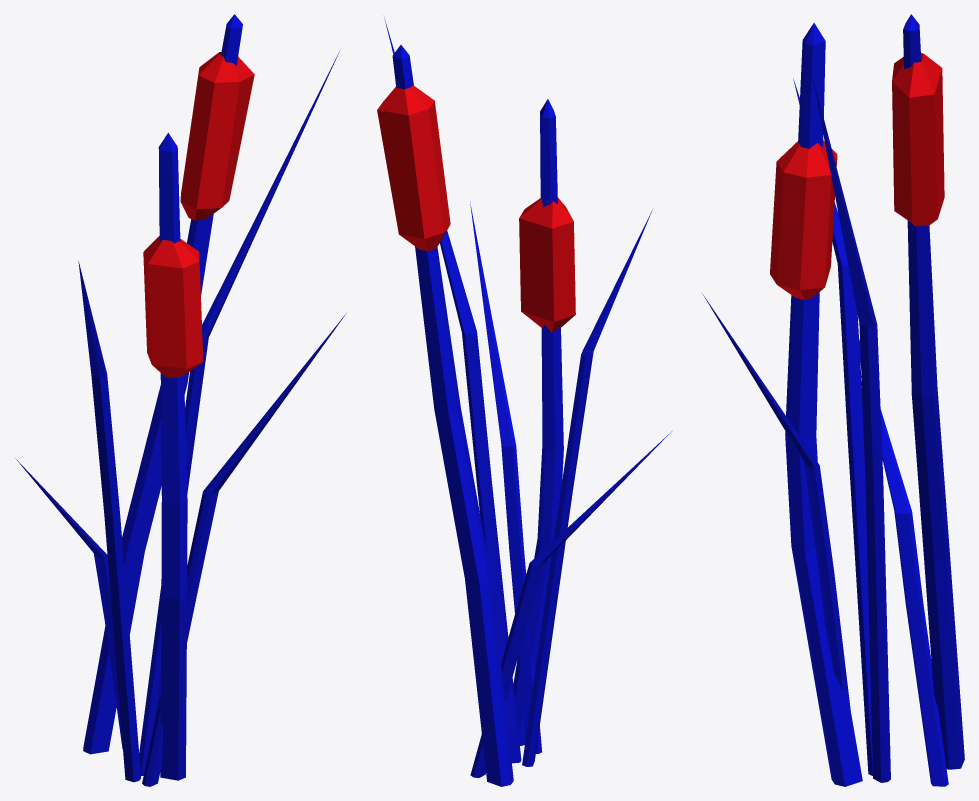
File: SM_Reed2.fbx
The picture shows the model from 3 angles, left to right: view 1: azimuth 30°, elevation 25°; view 2: azimuth 150°, elevation 25°; view 3: azimuth 270°, elevation 25°; orthographic projection. The views are drawn at different scales.
Parts seen in each view (by area): view 1: SM_Reed2; view 2: SM_Reed2; view 3: SM_Reed2.
Part boxes in pixels (bbox=[...]): SM_Reed2: bbox=[15, 14, 346, 786]; SM_Reed2: bbox=[377, 18, 671, 786]; SM_Reed2: bbox=[702, 14, 964, 786].
Bounding box in the file's own units: 42.32 × 93.76 × 27.19.
